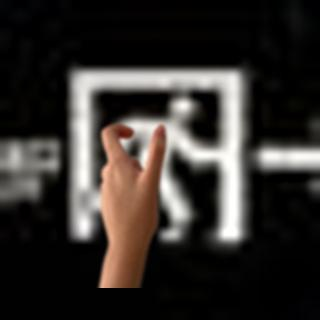Irritated: (90, 114, 173, 273)
